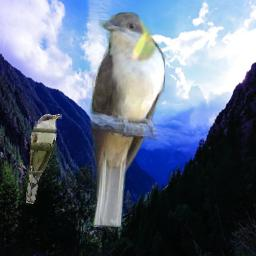Cuckoo: (87, 12, 165, 227), (26, 114, 62, 204)
